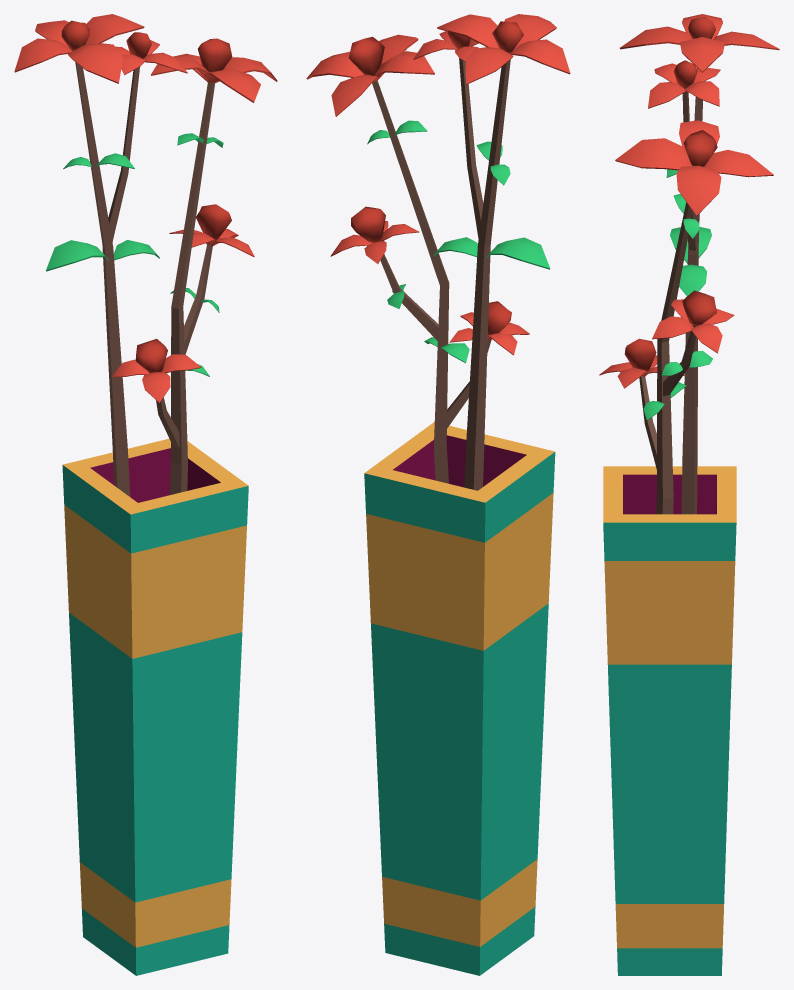
The model's file is Plant2 LV3.fbx.
3 views of the same model, side by side, from view 1: azimuth 30°, elevation 25°; view 2: azimuth 150°, elevation 25°; view 3: azimuth 270°, elevation 25° (orthographic). The views are drawn at different scales.
Parts seen in each view (by area): view 1: Plant_2_LV3; view 2: Plant_2_LV3; view 3: Plant_2_LV3.
Boxes of the visible parts, x1,y1,x2,y2 form: Plant_2_LV3: (14,14,277,975); Plant_2_LV3: (306,14,570,975); Plant_2_LV3: (599,14,779,975).
Bounding box in the file's own units: 78.79 × 268 × 48.46.
